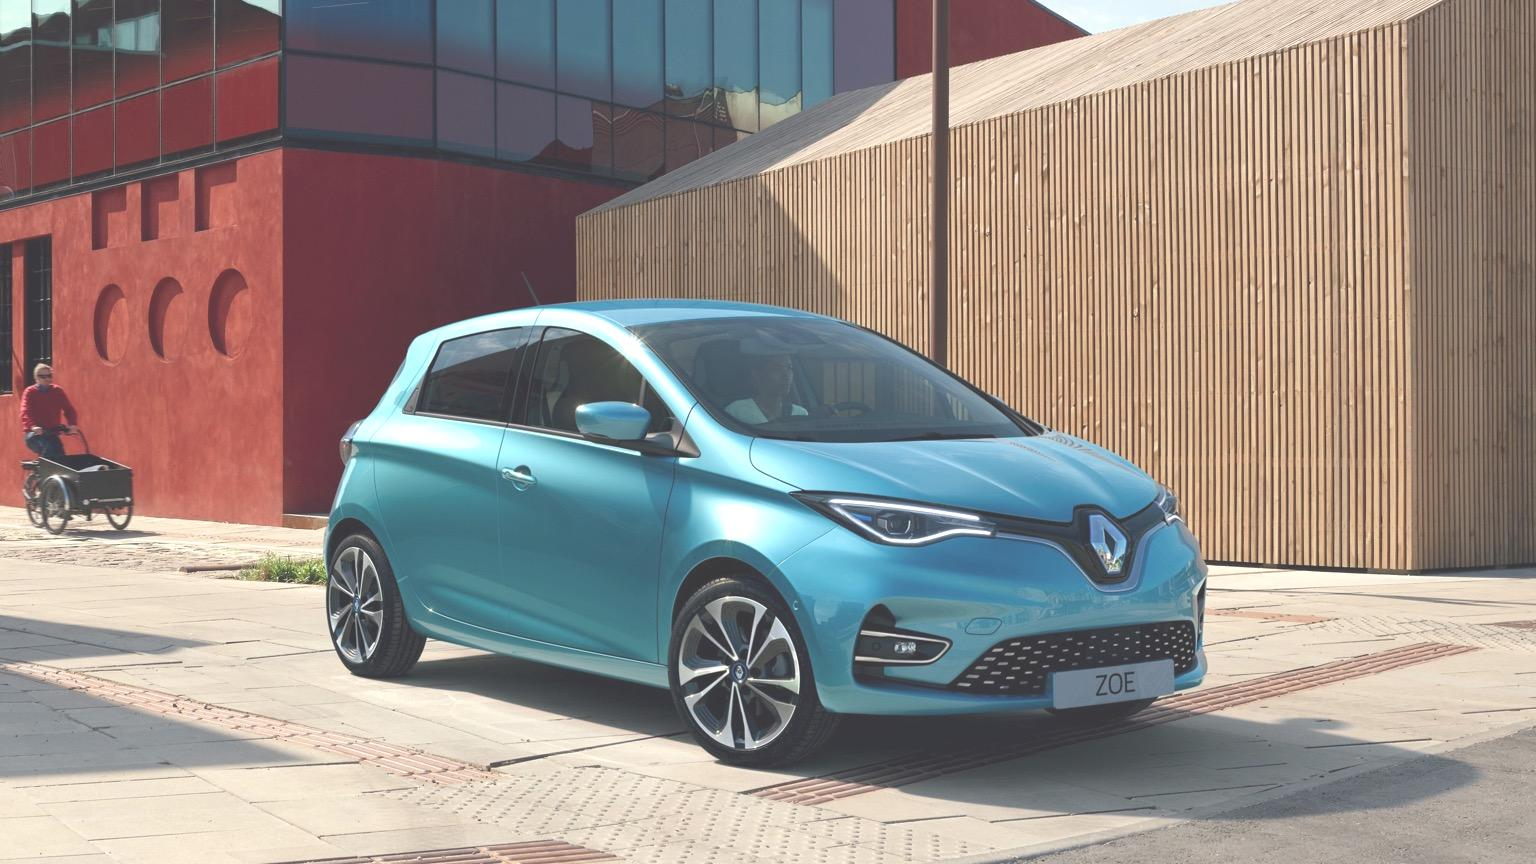Renault: (1076, 491, 1138, 597)
